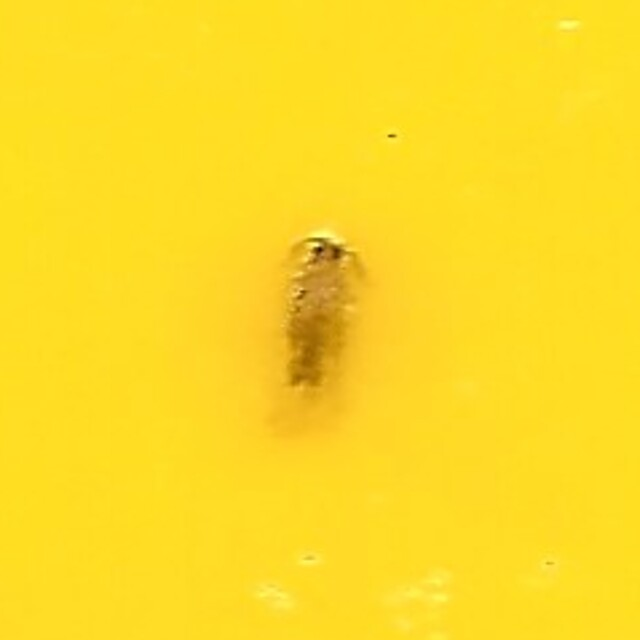Trichoptera: (268, 229, 372, 411)
